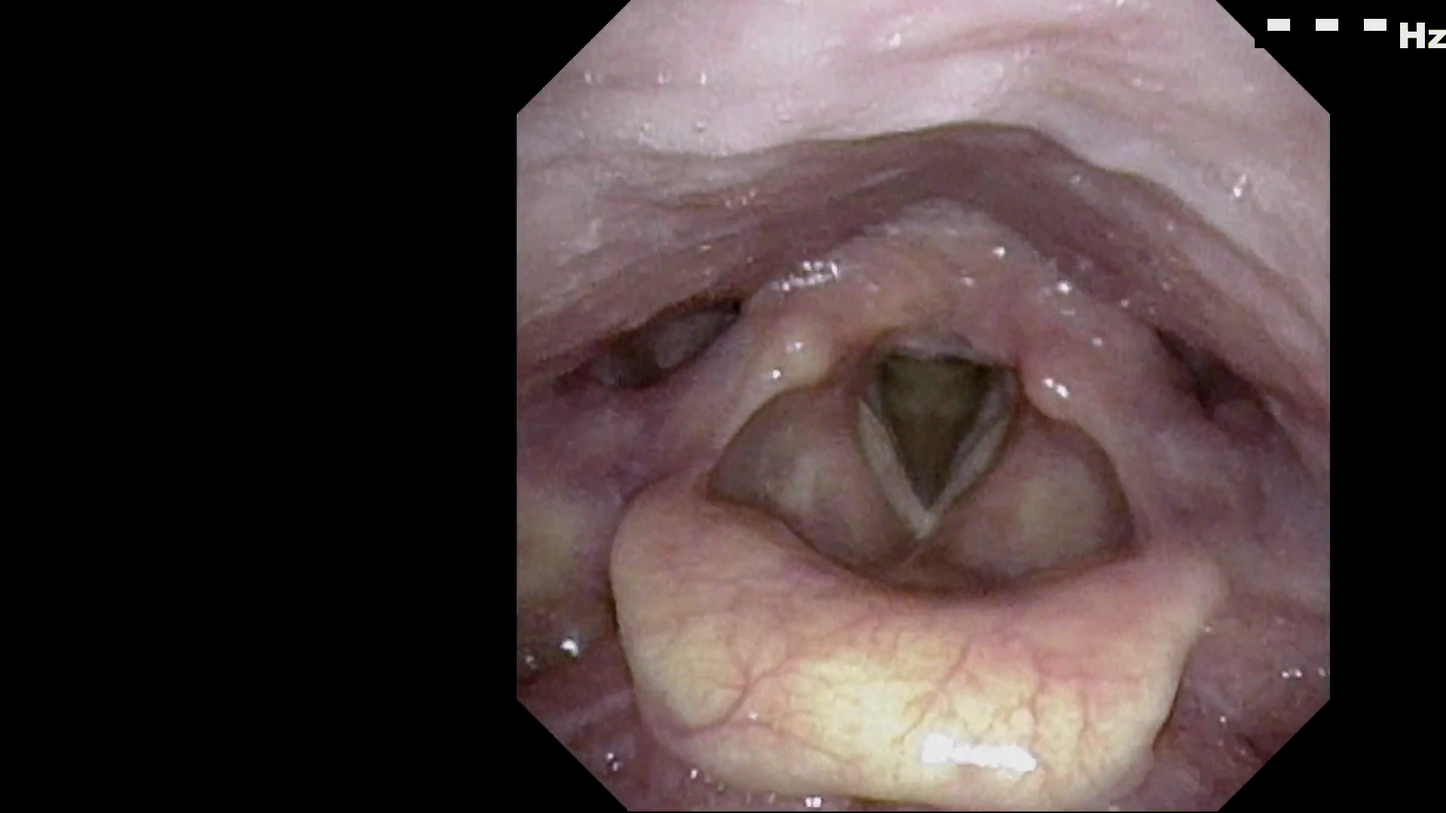epiglottis: (595, 503, 1209, 764)
trachea: (842, 327, 1020, 552)
